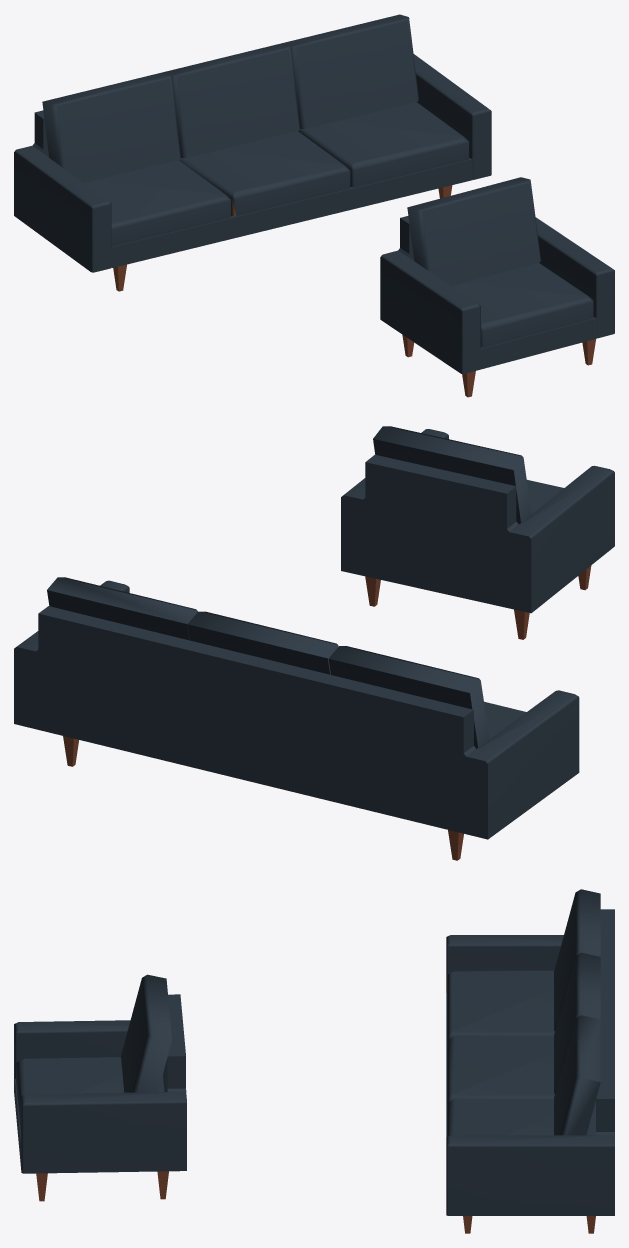
Rendered from Antreah.fbx.
3 views of the same model, one above another, from view 1: azimuth 30°, elevation 25°; view 2: azimuth 150°, elevation 25°; view 3: azimuth 270°, elevation 25° (orthographic). The views are drawn at different scales.
Parts seen in each view (by area): view 1: couch1, Armchair; view 2: couch1, Armchair; view 3: couch1, Armchair.
Boxes of the visible parts, bbox=[...] form: couch1: bbox=[14, 14, 491, 291]; Armchair: bbox=[380, 177, 614, 397]; couch1: bbox=[14, 577, 579, 860]; Armchair: bbox=[341, 426, 614, 639]; couch1: bbox=[446, 889, 614, 1233]; Armchair: bbox=[14, 974, 186, 1201].
Size of the model in its own units: 190 by 69.23 by 229.
